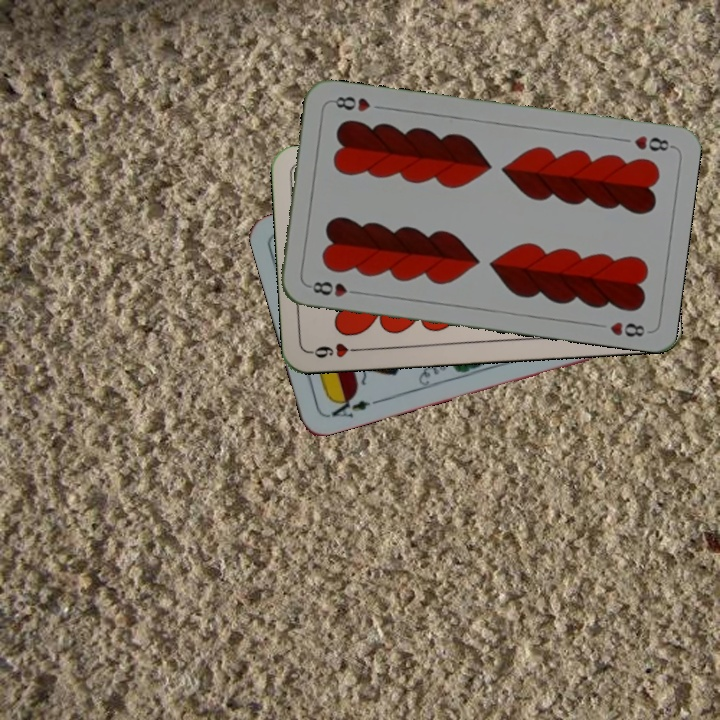EA: (325, 391, 373, 420)
H8: (304, 277, 363, 299), (630, 131, 675, 154)
H9: (307, 339, 366, 360)
